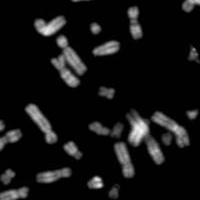chromosome: (125, 109, 164, 165), (24, 102, 57, 143), (152, 111, 189, 147), (56, 35, 89, 75), (51, 54, 81, 89), (34, 14, 65, 36), (89, 118, 124, 137), (114, 142, 133, 177), (128, 118, 150, 146), (36, 166, 71, 183), (128, 6, 143, 39), (0, 130, 22, 151), (92, 40, 120, 55), (0, 187, 30, 200), (64, 140, 81, 161), (181, 0, 200, 14), (187, 46, 200, 66), (86, 176, 103, 191), (0, 169, 16, 184), (98, 85, 115, 98), (186, 107, 199, 122), (107, 184, 120, 199), (89, 19, 101, 35), (160, 133, 173, 147), (0, 120, 5, 138), (70, 0, 114, 1)
